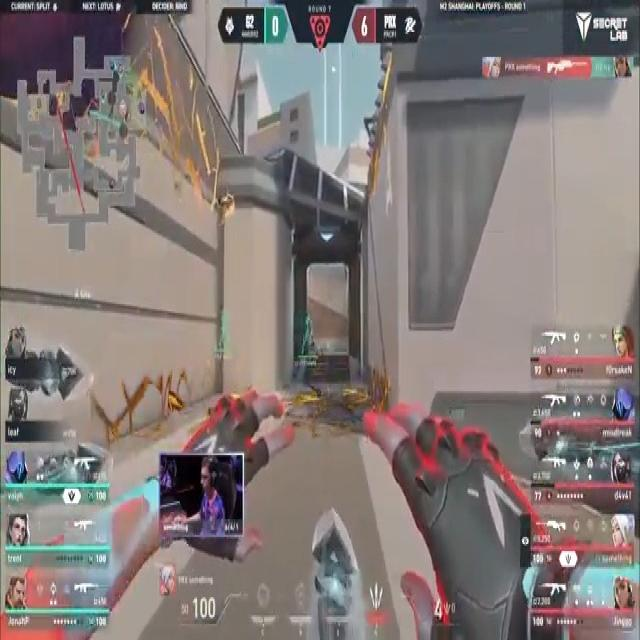ally behind wall: (302, 316, 316, 353), (220, 307, 230, 352)
